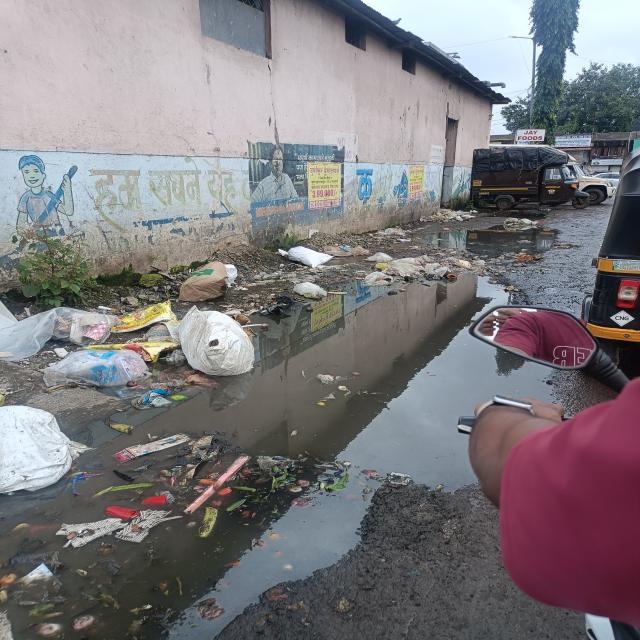garbage: (8, 250, 352, 466), (316, 202, 554, 289)
